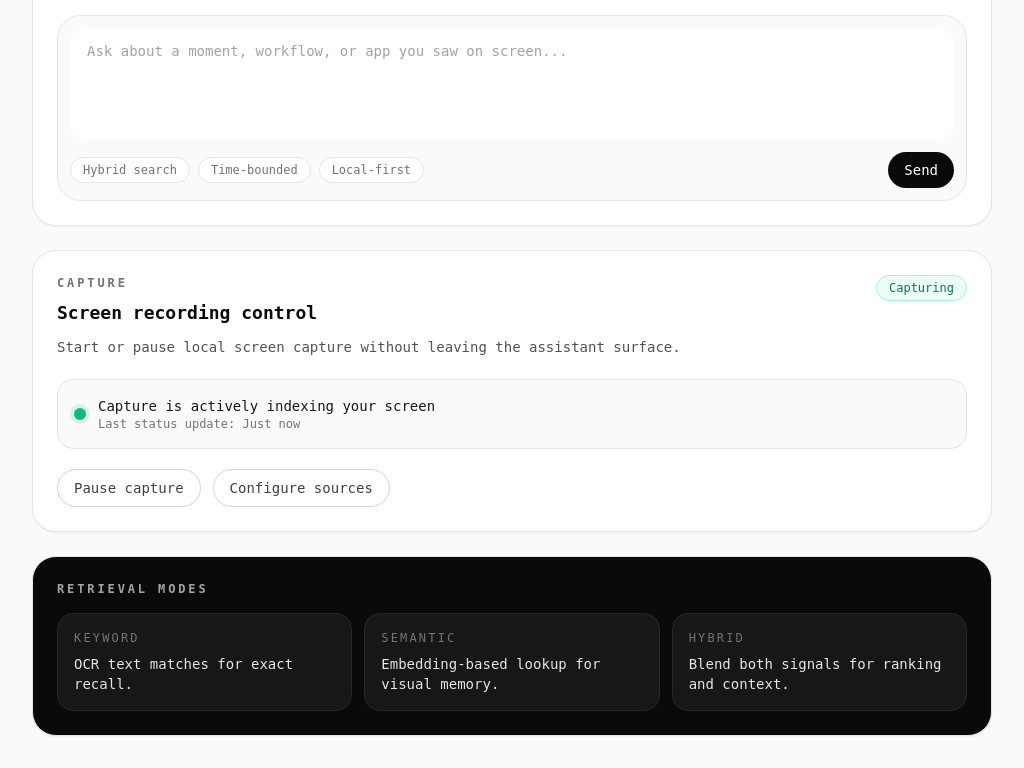
Test: HomeView › toggles capture state from running to paused
The width and height of the screenshot is (1024, 768).
(page scrolled)
Click the button "Pause capture" at (129, 488), box [57,469,201,507]
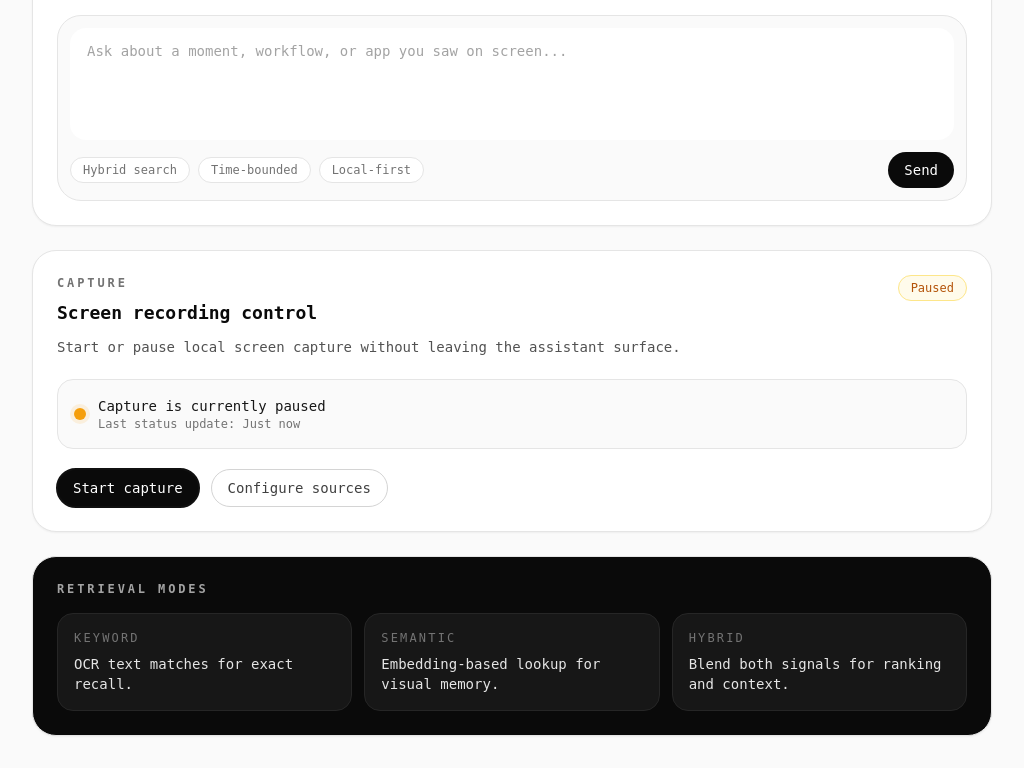
Check: the text "Capture is currently paused" is shown, box [98,396,326,416]
Check: the button "Start capture" is shown, box [57,469,199,507]
